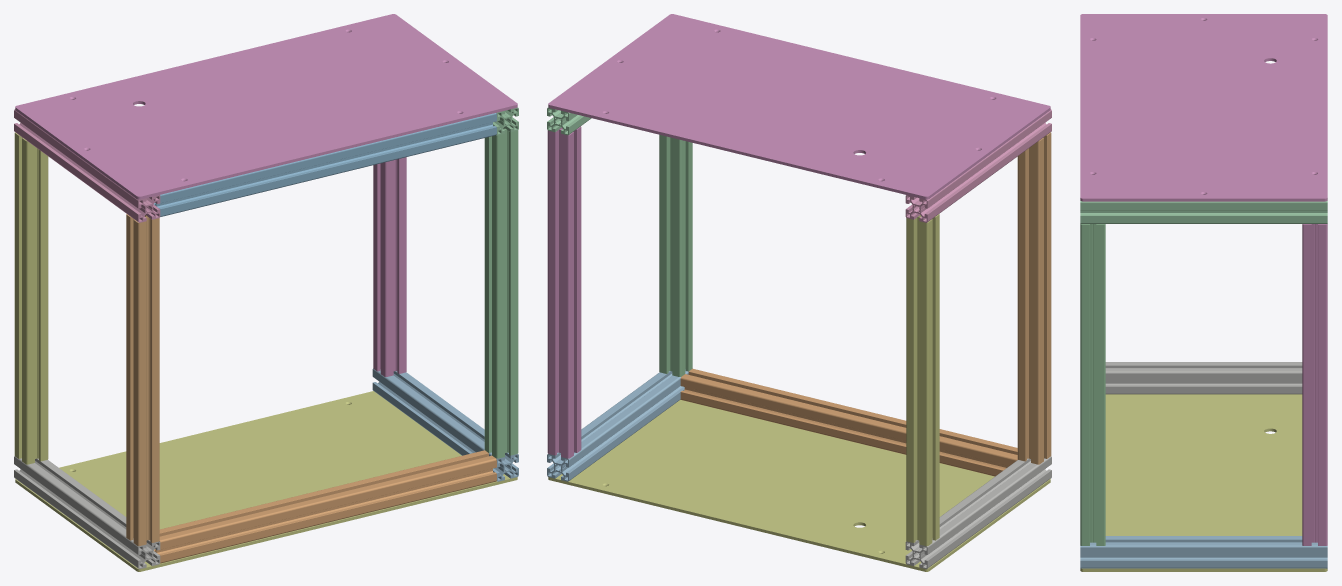
Rendered from case-06_astra6.glb.
3 views of the same model, side by side, from view 1: azimuth 30°, elevation 25°; view 2: azimuth 150°, elevation 25°; view 3: azimuth 270°, elevation 25° (orthographic).
Parts seen in each view (by area): view 1: c00012, c00011, c00009, c00004, c00001, c00003, c00010, c00002, c00005, c00006, c00007; view 2: c00012, c00011, c00002, c00003, c00001, c00009, c00004, c00005, c00006, c00007, c00008; view 3: c00012, c00011, c00002, c00004, c00006, c00005, c00008.
Part boxes in pixels (x1,y1,x2,y2): c00012: (15, 14, 517, 199); c00011: (15, 391, 517, 571); c00009: (154, 450, 496, 563); c00004: (484, 127, 518, 458); c00001: (14, 132, 48, 464); c00003: (126, 214, 159, 546); c00010: (154, 113, 496, 216); c00002: (373, 157, 406, 376); c00005: (14, 456, 160, 569); c00006: (372, 368, 518, 481); c00007: (14, 109, 160, 222); c00012: (548, 14, 1050, 199); c00011: (548, 399, 1050, 571); c00002: (547, 126, 581, 458); c00003: (1017, 132, 1051, 464); c00001: (906, 214, 939, 546); c00009: (680, 368, 1017, 476); c00004: (659, 134, 692, 376); c00005: (905, 456, 1051, 569); c00006: (547, 369, 688, 481); c00007: (905, 109, 1051, 222); c00008: (547, 107, 591, 135); c00012: (1080, 14, 1327, 201); c00011: (1080, 394, 1327, 571); c00002: (1302, 224, 1327, 545); c00004: (1080, 224, 1105, 545); c00006: (1080, 536, 1327, 568); c00005: (1105, 362, 1302, 394); c00008: (1080, 201, 1327, 223).
Size of the model in its own units: 690 by 650 by 390.
